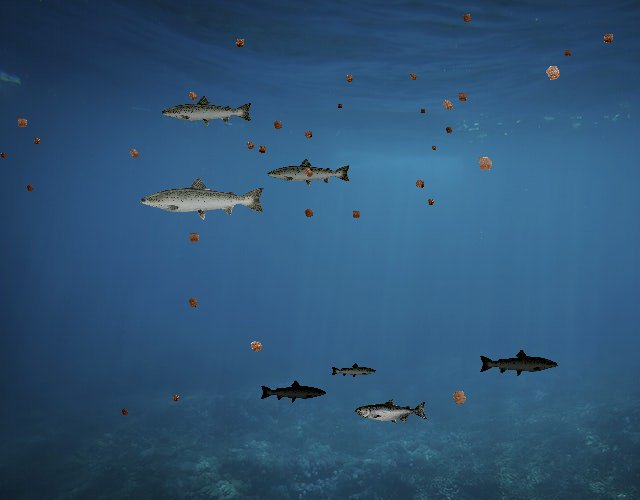Fish: (138, 175, 267, 221), (161, 95, 255, 129), (266, 157, 352, 188), (479, 349, 560, 378), (355, 399, 428, 425), (259, 380, 327, 404), (330, 362, 377, 379)
Pellet: (244, 334, 269, 359), (457, 9, 476, 28), (341, 71, 358, 88), (168, 391, 183, 406), (423, 195, 438, 209), (118, 405, 132, 419), (30, 134, 44, 148)
